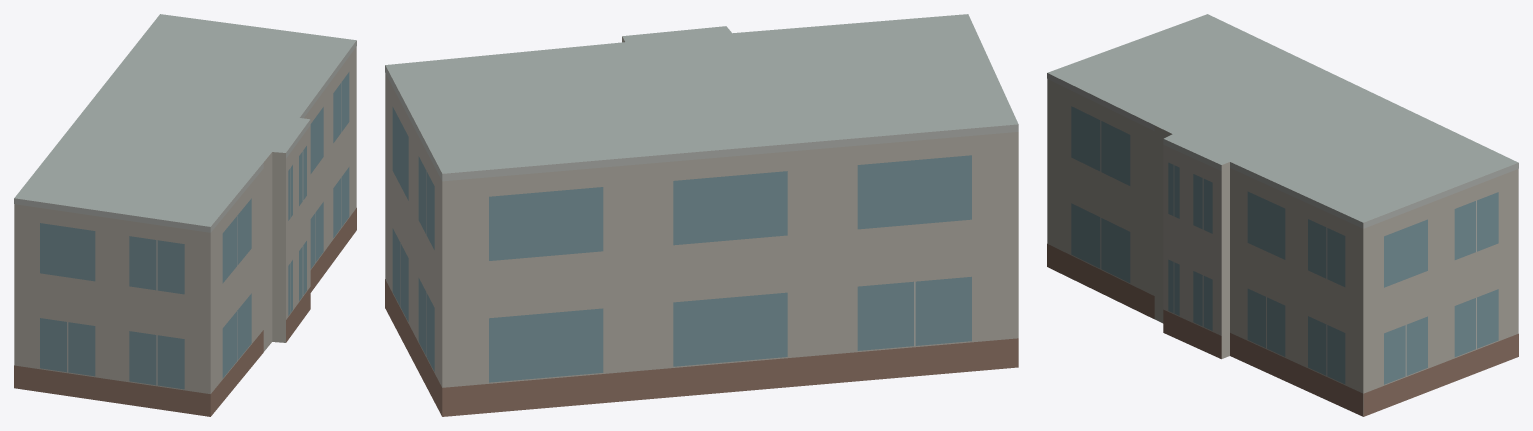
The model's file is survey-upis-32639408.glb.
The picture shows the model from 3 angles, left to right: view 1: azimuth 30°, elevation 25°; view 2: azimuth 150°, elevation 25°; view 3: azimuth 270°, elevation 25°; orthographic projection. The views are drawn at different scales.
Visible parts, largest first — view 1: survey-upis-32639408.tmp; view 2: survey-upis-32639408.tmp; view 3: survey-upis-32639408.tmp.
Boxes of the visible parts, x1,y1,x2,y2 form: survey-upis-32639408.tmp: (14, 14, 356, 416); survey-upis-32639408.tmp: (385, 14, 1018, 416); survey-upis-32639408.tmp: (1047, 14, 1518, 416).
Size of the model in its own units: 18.24 by 7.9 by 17.41.
